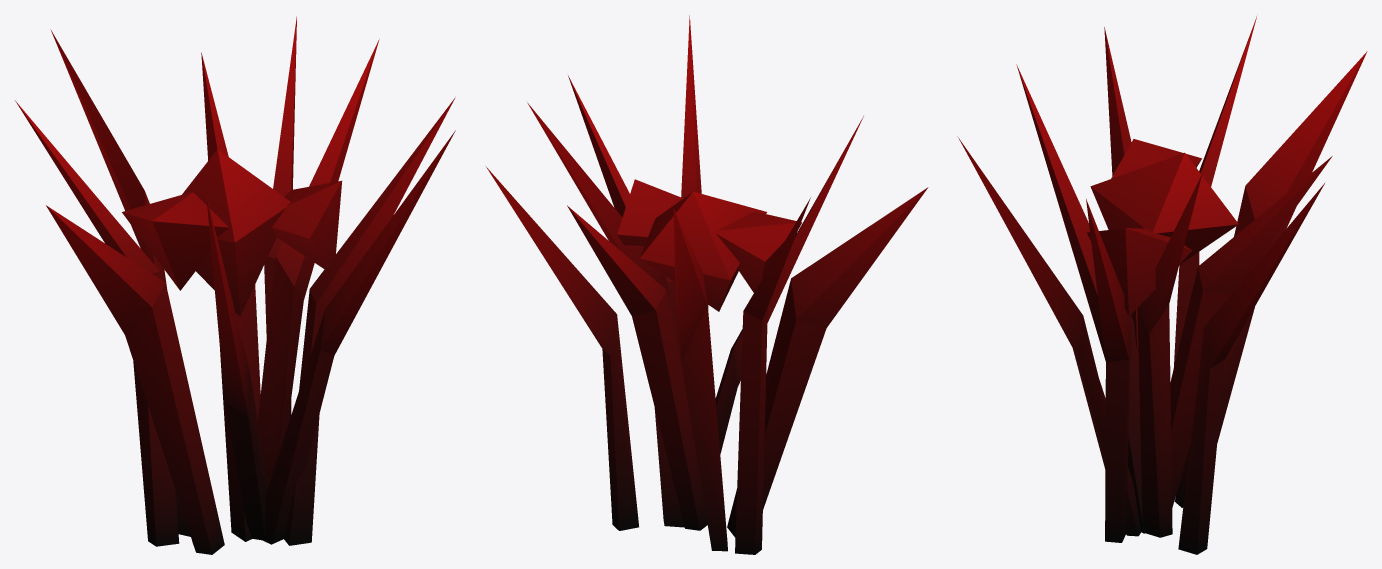
Rendered from SM_Env_Plant_Grass_Flower_03.fbx.
3 renders of one model, left to right at view 1: azimuth 30°, elevation 25°; view 2: azimuth 150°, elevation 25°; view 3: azimuth 270°, elevation 25°, orthographic. The views are drawn at different scales.
Visible parts, largest first — view 1: SM_Env_Plant_Grass_Flower_03; view 2: SM_Env_Plant_Grass_Flower_03; view 3: SM_Env_Plant_Grass_Flower_03.
Boxes of the visible parts, x1,y1,x2,y2 form: SM_Env_Plant_Grass_Flower_03: (15, 16, 455, 554); SM_Env_Plant_Grass_Flower_03: (486, 15, 928, 554); SM_Env_Plant_Grass_Flower_03: (957, 16, 1367, 554).
Bounding box in the file's own units: 155 × 167 × 142.
